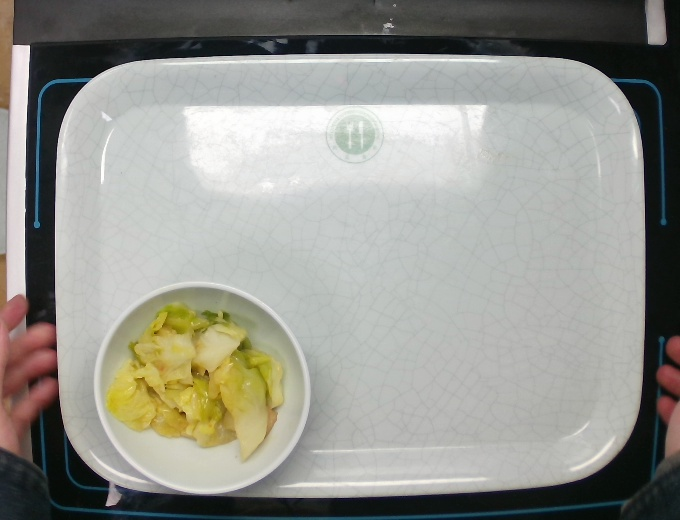JYsf-Fan_Wan: (81, 272, 328, 511)
